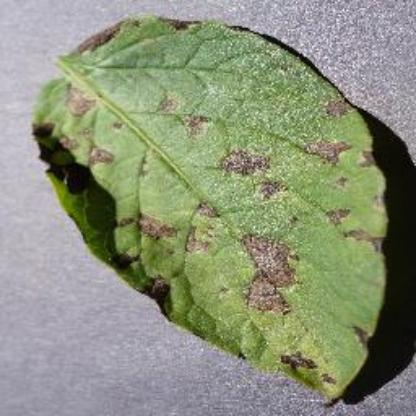Early-Blight: (32, 13, 390, 406)
